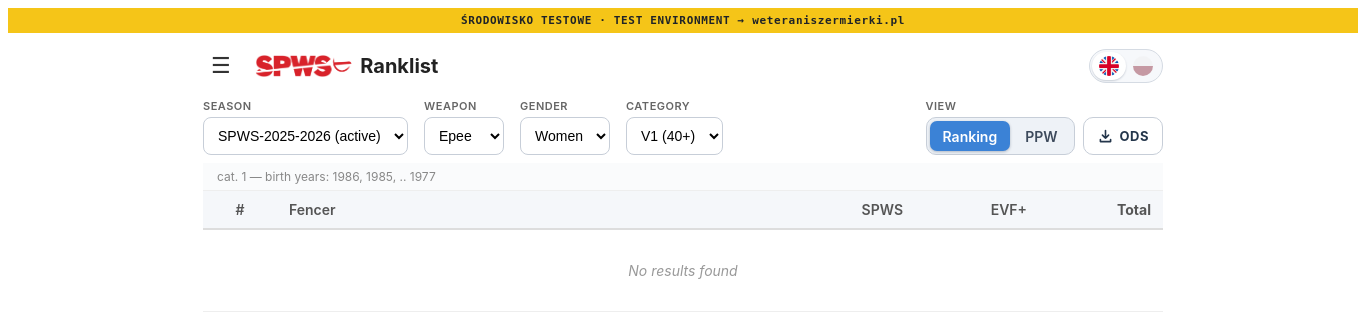
Scenario: SS26.UIHIST — publication boundary and staleness › returning to a FULL season restores the switch and its own default
Expected: the number of buttons with class "toggle-btn" is 2, [930, 121, 1010, 151]; [1012, 121, 1070, 151]
Select "SPWS-2024-2025" in the dropdown with class "season-select" at (306,136), box [203, 117, 408, 155]
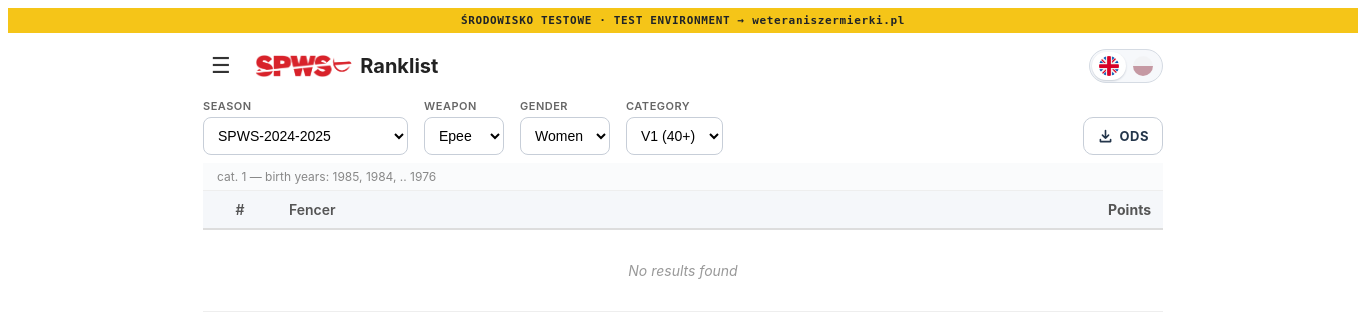
Now no buttons with class "toggle-btn" are shown
Select "SPWS-2025-2026 (active)" in the dropdown with class "season-select" at (306,136), box [203, 117, 408, 155]
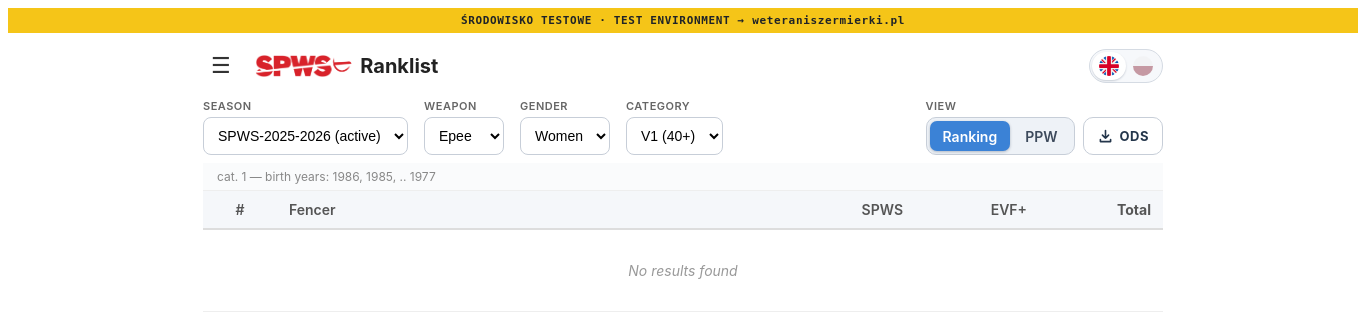
Now the number of buttons with class "toggle-btn" is 2, box [930, 121, 1010, 151]; [1012, 121, 1070, 151]
